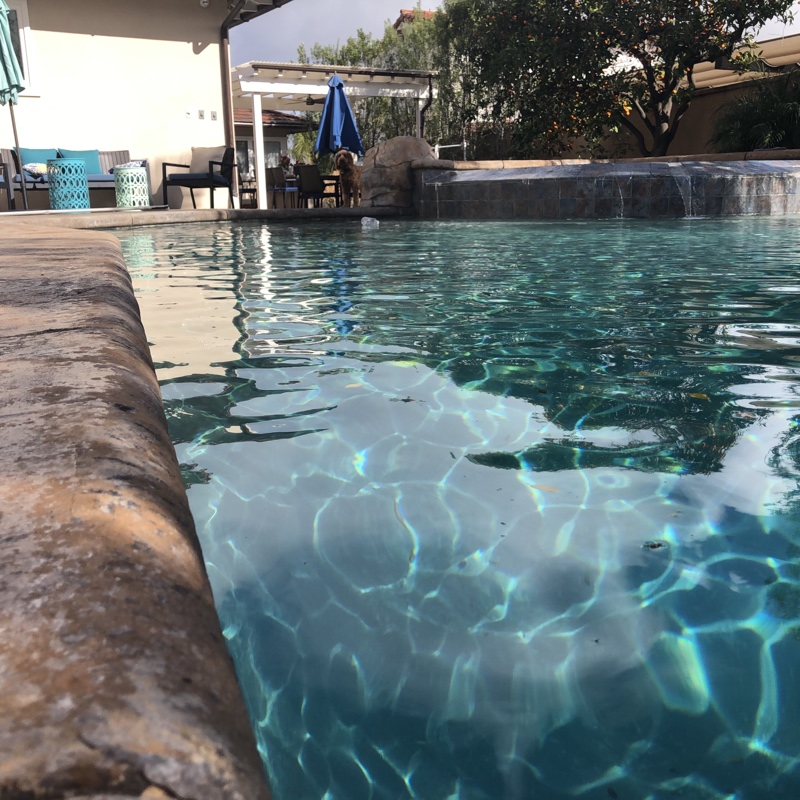Plastic Bottle: (358, 212, 381, 235)
